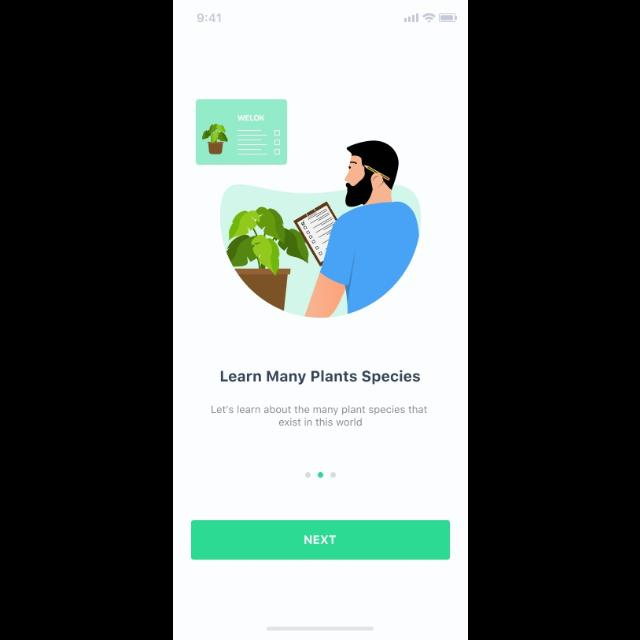image: (195, 100, 421, 318)
pageindicator: (305, 472, 337, 478)
text: (211, 404, 427, 426), (220, 369, 420, 385)
textbutton: (192, 520, 450, 560)
uppertaskbar: (197, 14, 457, 24)
